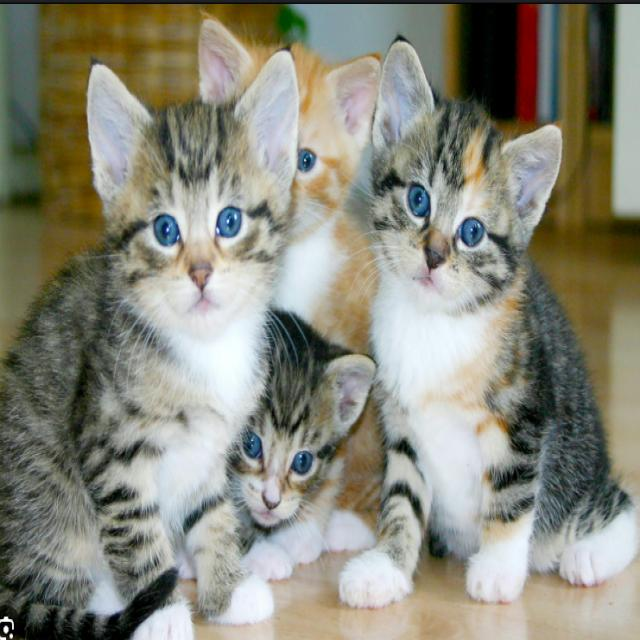cats: (377, 35, 615, 614), (88, 60, 298, 565), (226, 324, 380, 622)
